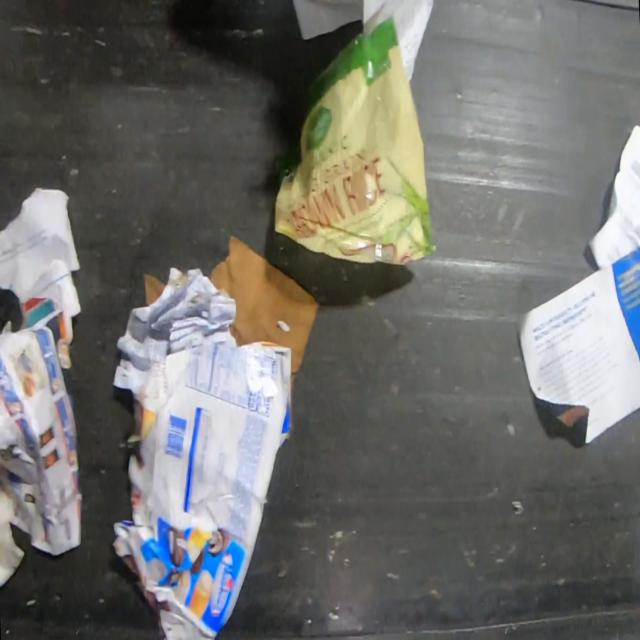cardboard: (114, 339, 293, 639), (212, 238, 321, 375)
soft_plastic: (275, 18, 442, 270)
